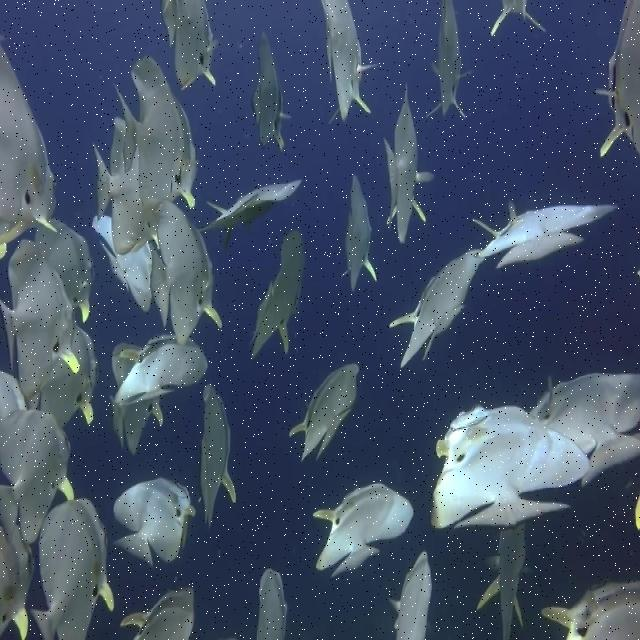fish: (431, 403, 591, 529), (113, 53, 198, 214), (0, 239, 82, 400), (0, 40, 59, 258), (532, 372, 639, 488), (30, 498, 115, 639), (110, 335, 210, 451), (389, 251, 484, 366), (0, 408, 77, 544), (470, 200, 620, 269), (150, 205, 222, 348), (313, 483, 413, 579), (95, 117, 159, 253), (386, 83, 437, 244), (591, 0, 639, 157), (286, 364, 360, 464), (320, 1, 380, 123), (250, 228, 306, 358), (200, 179, 301, 249), (477, 523, 537, 639), (113, 480, 195, 563), (35, 325, 97, 427), (36, 217, 94, 323), (540, 581, 639, 639), (198, 384, 237, 528), (94, 215, 151, 312), (427, 1, 473, 120), (160, 0, 219, 90), (249, 32, 290, 157), (339, 168, 378, 291), (115, 585, 195, 639), (0, 524, 35, 638), (388, 552, 433, 639), (488, 0, 548, 38), (256, 568, 287, 639)
